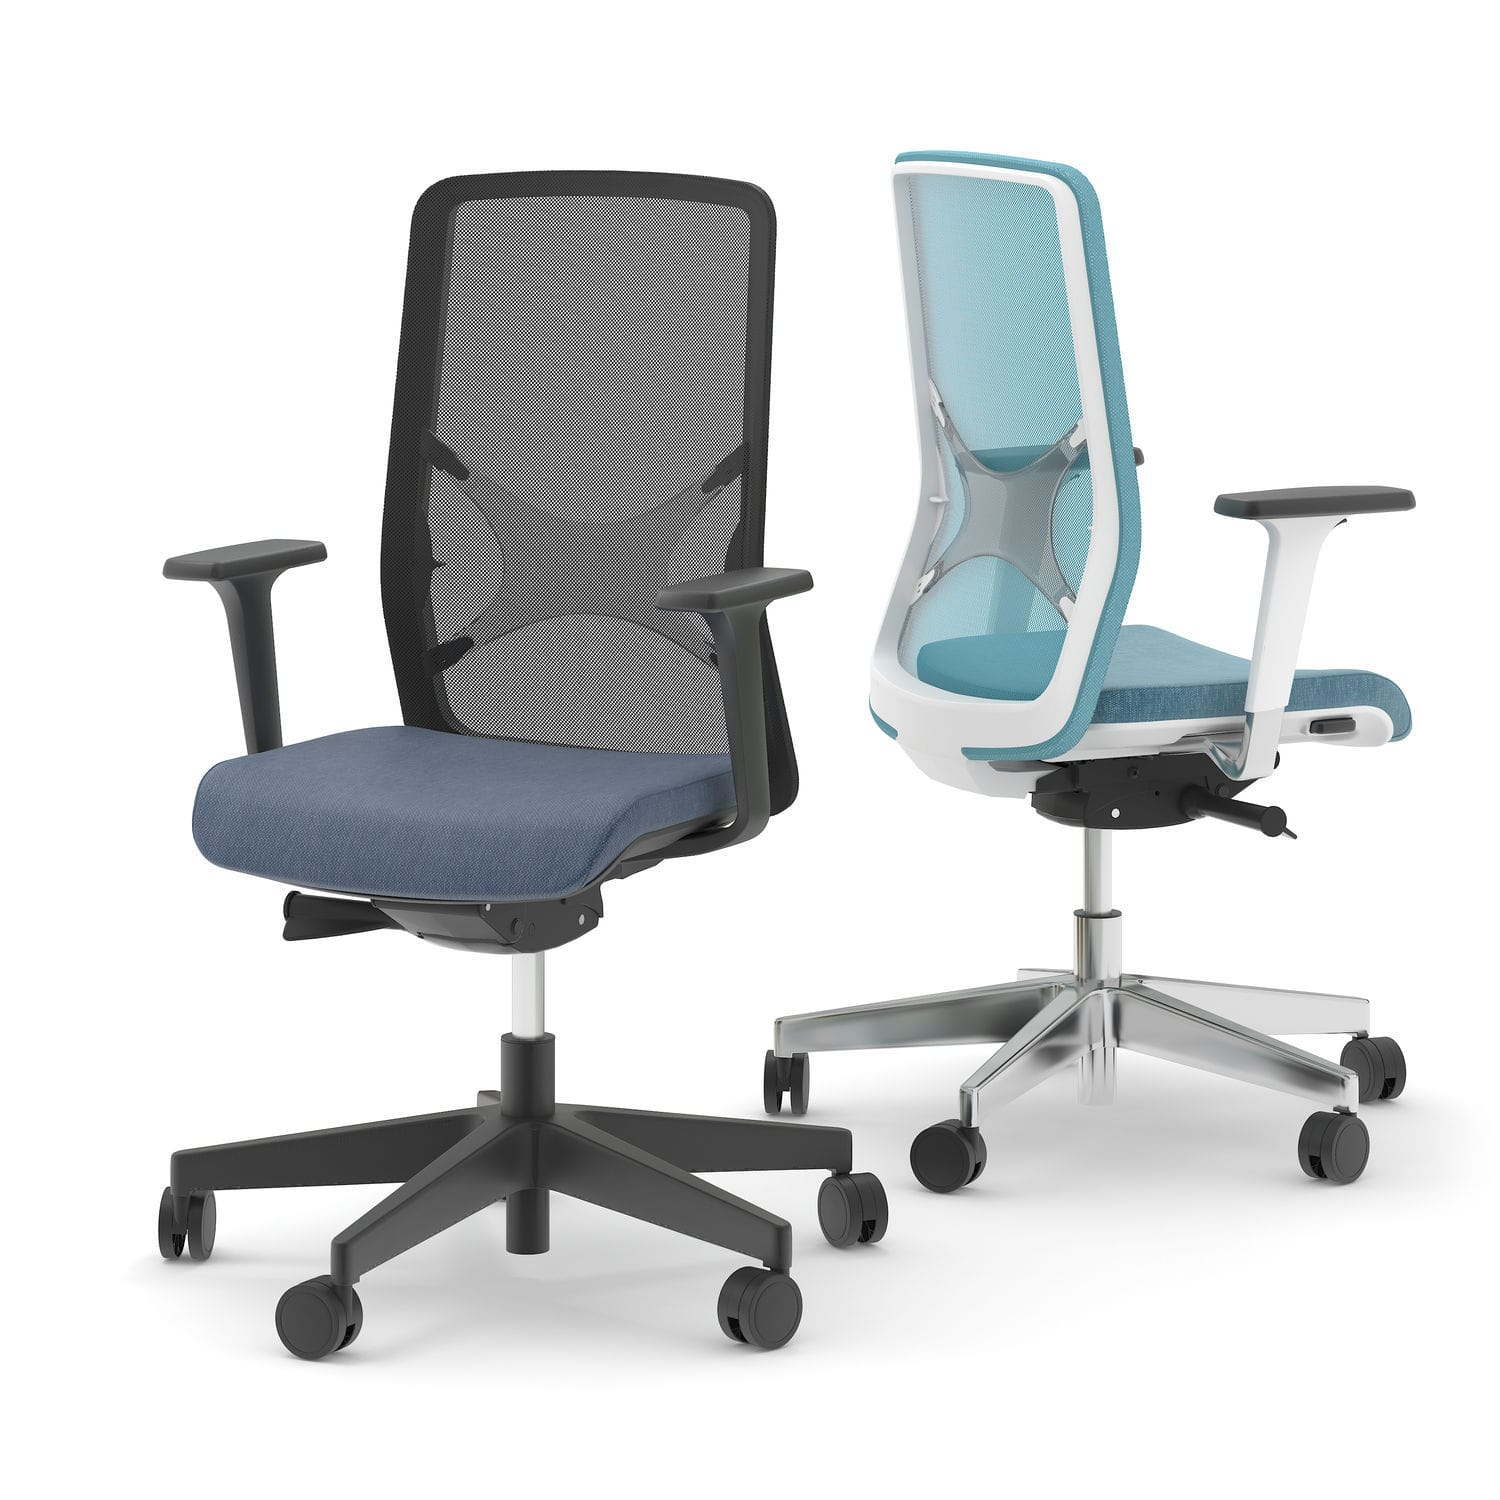chairs: (151, 159, 897, 1363), (754, 141, 1437, 1196)
